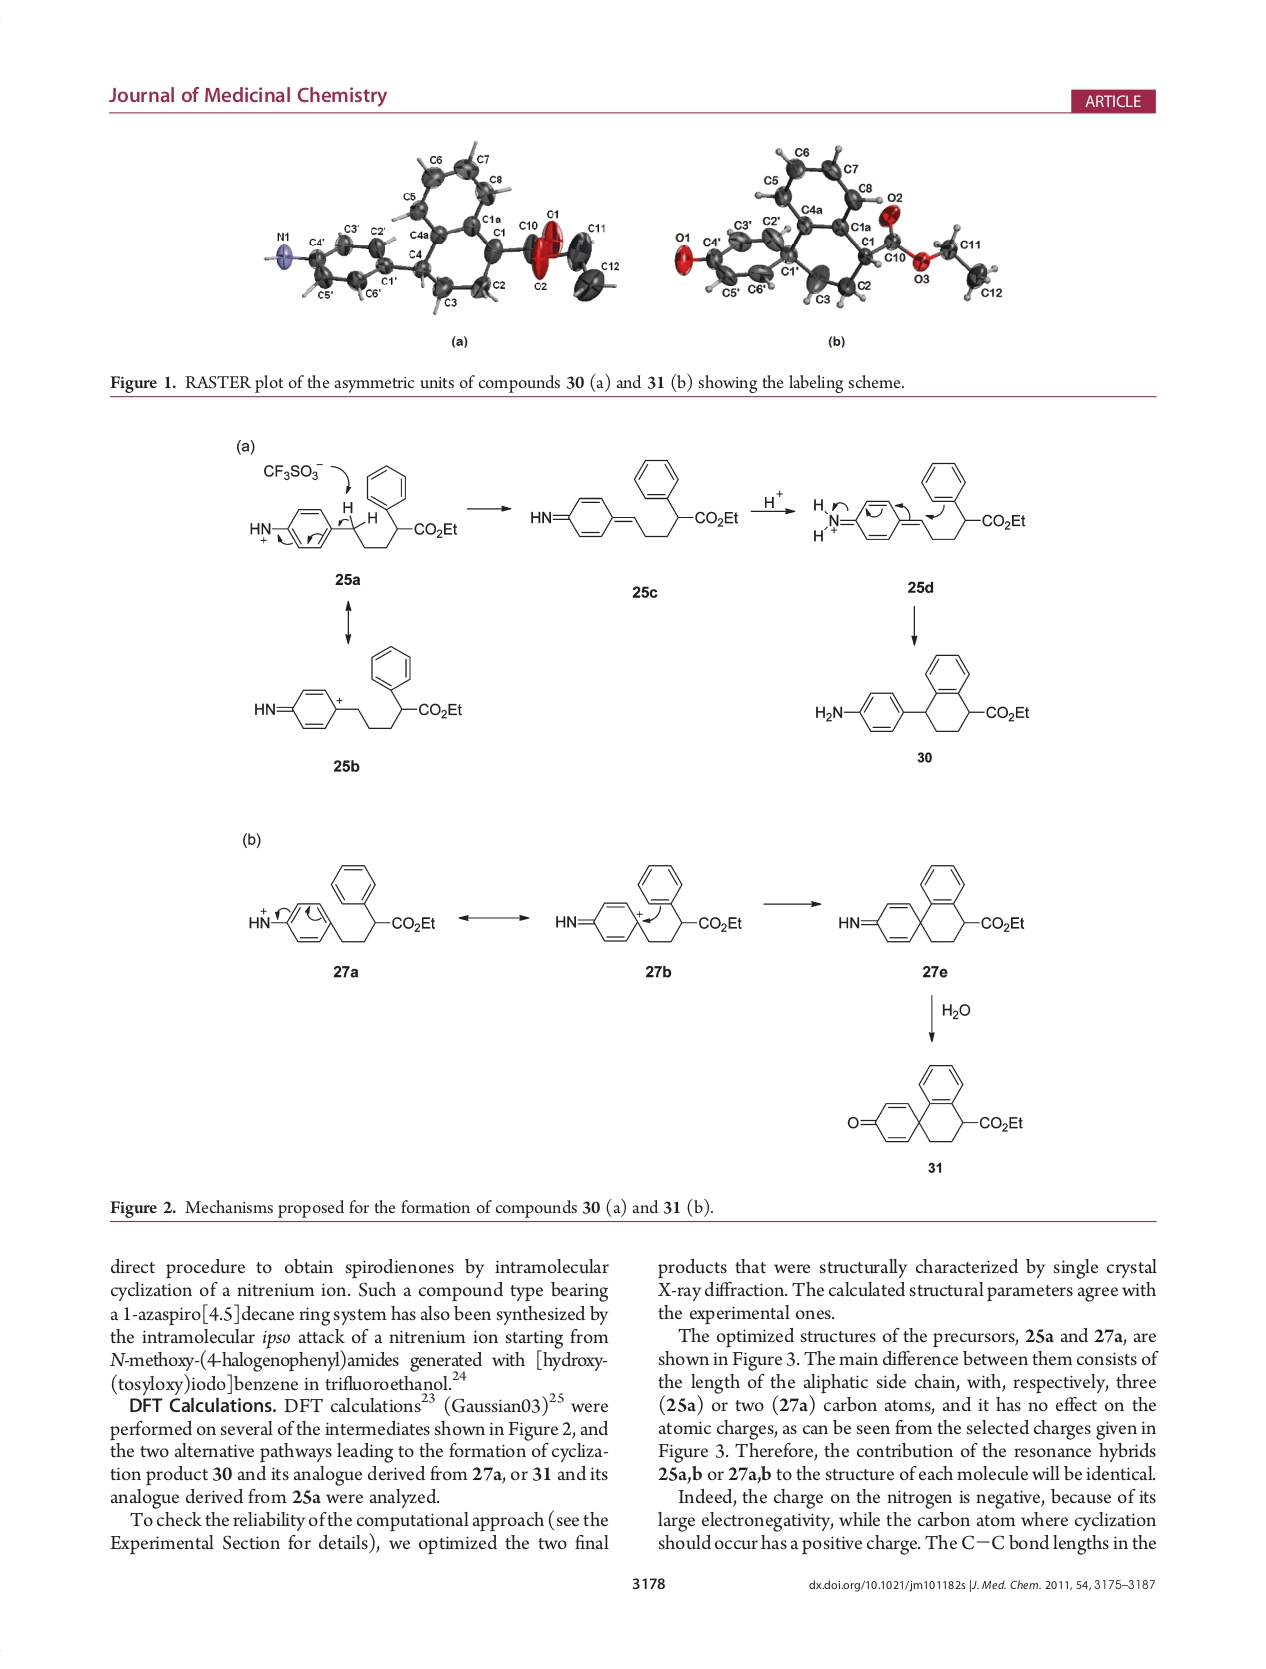exist_molecular: (247, 457, 461, 561), (807, 457, 1029, 553), (813, 649, 1035, 739), (251, 644, 468, 731), (531, 455, 742, 543), (835, 859, 1032, 951), (552, 860, 747, 950), (245, 860, 438, 948), (847, 1059, 1027, 1144)
